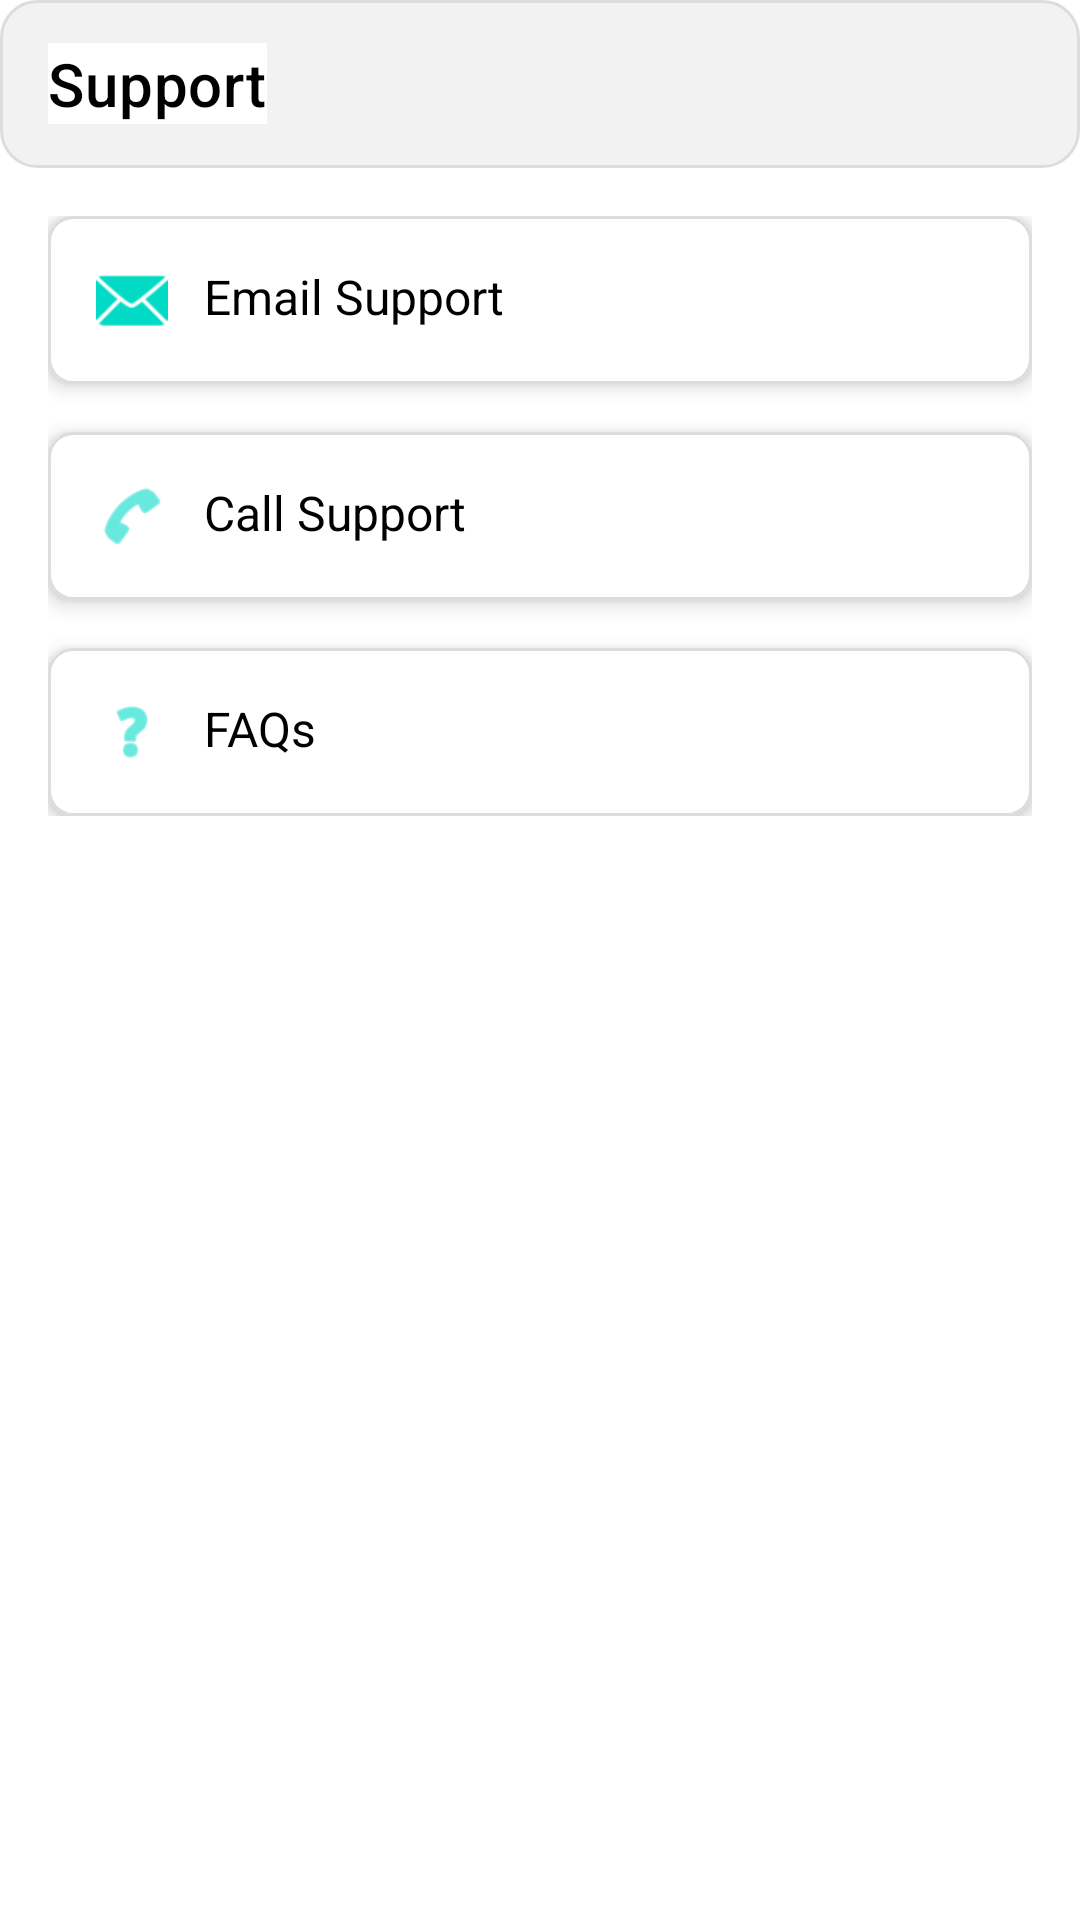

Named icons in this screenshot (1080px×1920px) and their bounding boxes, (x1, y1, x2, y2):
help: (116, 706, 148, 758)
